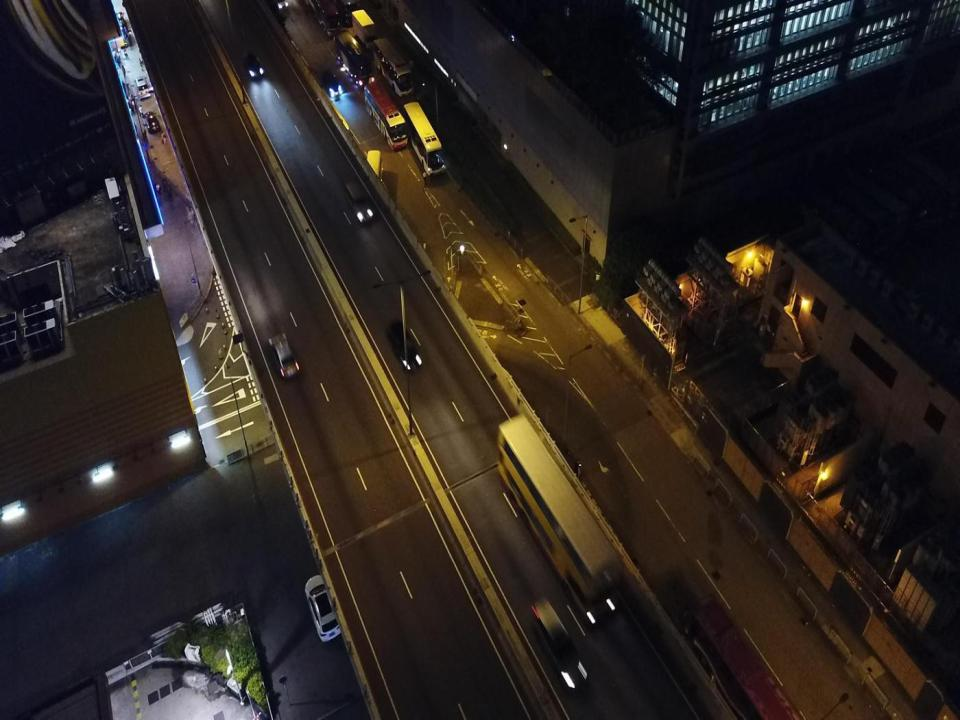bus: (496, 415, 622, 623), (687, 600, 800, 719), (363, 82, 409, 152), (402, 100, 445, 173), (373, 36, 415, 97), (334, 30, 375, 89)
car: (302, 573, 343, 646), (388, 318, 420, 371), (342, 180, 375, 226), (268, 333, 300, 379), (243, 50, 266, 81), (114, 12, 132, 48), (143, 112, 161, 134), (134, 76, 151, 99)
truck: (306, 0, 340, 37), (353, 9, 377, 51)
van: (532, 598, 588, 692), (365, 149, 382, 200), (321, 69, 342, 98)
